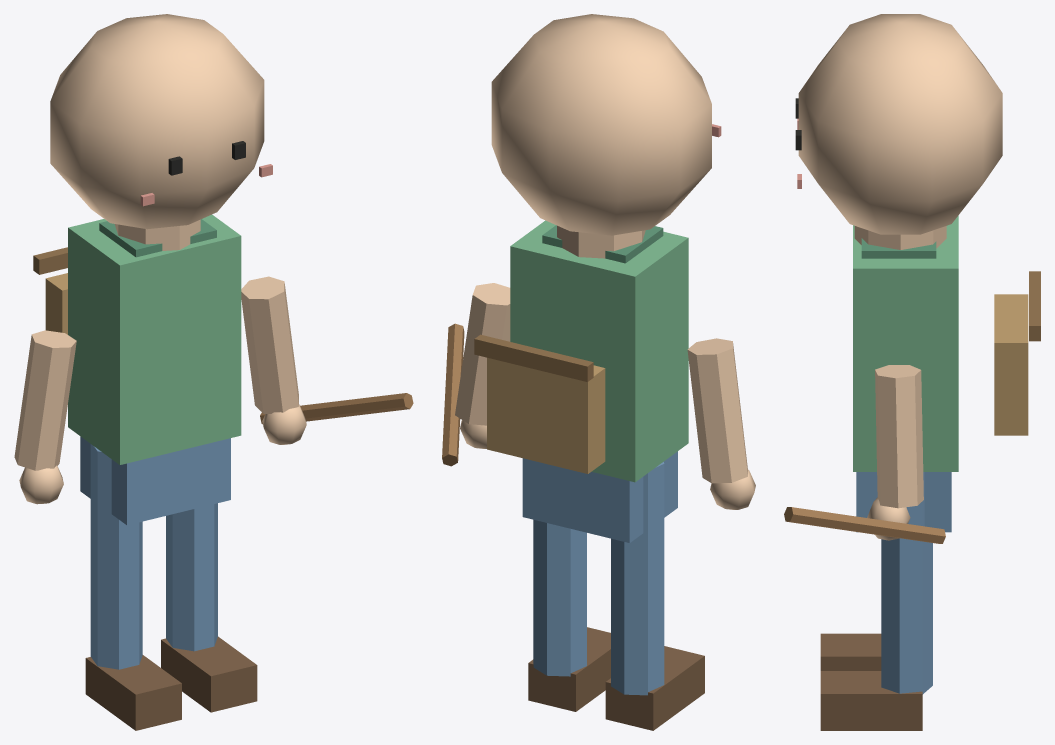
Rendered from sokpop_gatherer.glb.
3 renders of one model, left to right at view 1: azimuth 30°, elevation 25°; view 2: azimuth 150°, elevation 25°; view 3: azimuth 270°, elevation 25°, orthographic. The views are drawn at different scales.
Parts seen in each view (by area): view 1: sokpop_gatherer_root; view 2: sokpop_gatherer_root; view 3: sokpop_gatherer_root.
Part boxes in pixels (left/top/right/bottom): sokpop_gatherer_root: left=14, top=14, right=413, bottom=730; sokpop_gatherer_root: left=442, top=14, right=755, bottom=730; sokpop_gatherer_root: left=784, top=14, right=1040, bottom=730.
Size of the model in its own units: 0.92 by 1.7 by 0.5839.
